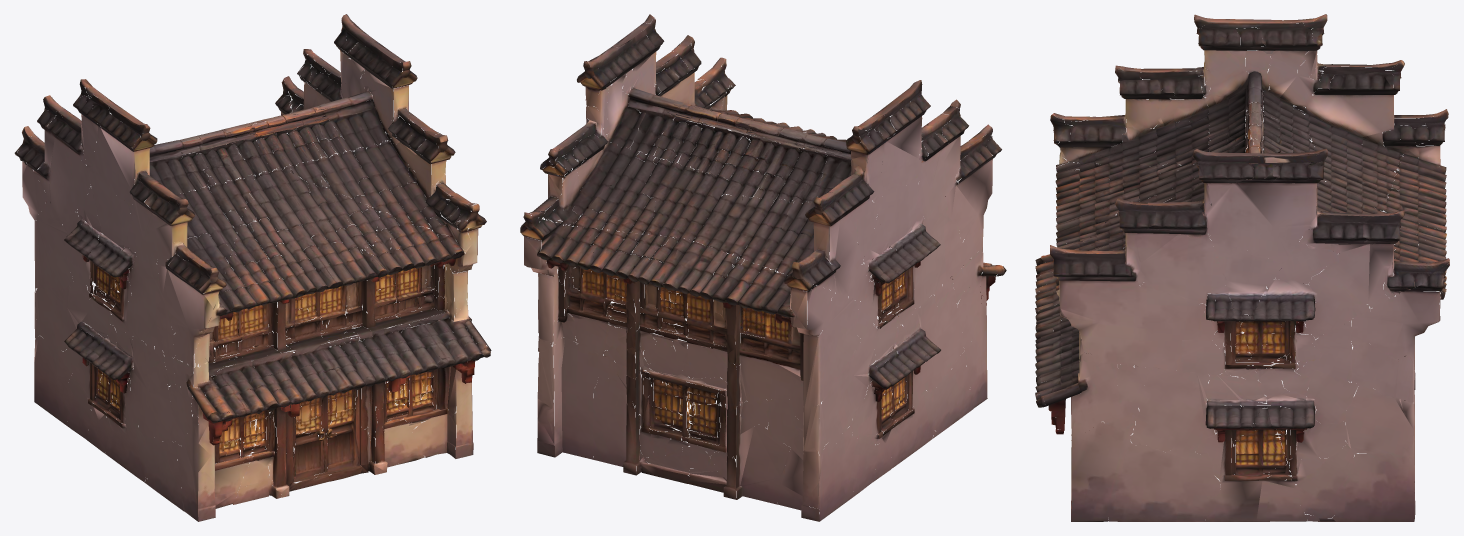
Rendered from house_c_40k.glb.
3 views of the same model, side by side, from view 1: azimuth 30°, elevation 25°; view 2: azimuth 150°, elevation 25°; view 3: azimuth 270°, elevation 25° (orthographic). The views are drawn at different scales.
Visible parts, largest first — view 1: tripo_node_f7ba3d5b-59a5-4ed7-b0fe-d70152c07c27; view 2: tripo_node_f7ba3d5b-59a5-4ed7-b0fe-d70152c07c27; view 3: tripo_node_f7ba3d5b-59a5-4ed7-b0fe-d70152c07c27.
Part boxes in pixels (x1,y1,x2,y2): tripo_node_f7ba3d5b-59a5-4ed7-b0fe-d70152c07c27: [14, 14, 491, 521]; tripo_node_f7ba3d5b-59a5-4ed7-b0fe-d70152c07c27: [520, 14, 1006, 521]; tripo_node_f7ba3d5b-59a5-4ed7-b0fe-d70152c07c27: [1035, 14, 1449, 521].
Bounding box in the file's own units: 0.9079 × 0.9641 × 0.9797.
1 material, 1 textured.
